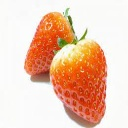strawberry: (50, 26, 109, 124), (23, 11, 79, 76)
